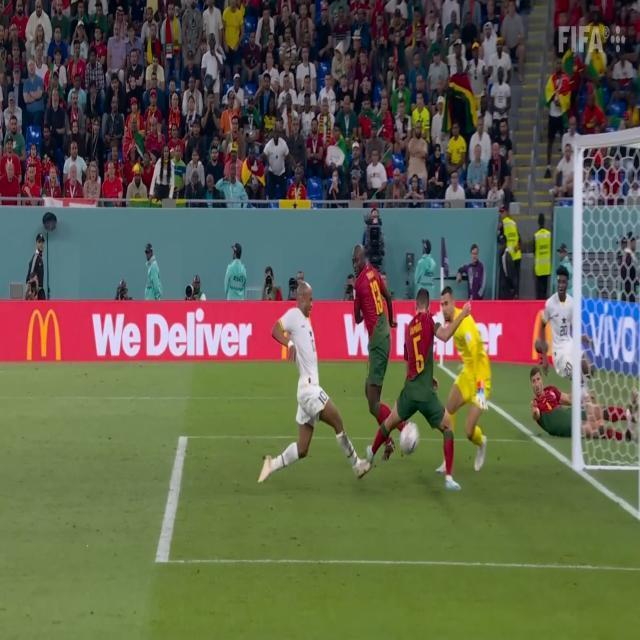football: (394, 421, 431, 459)
